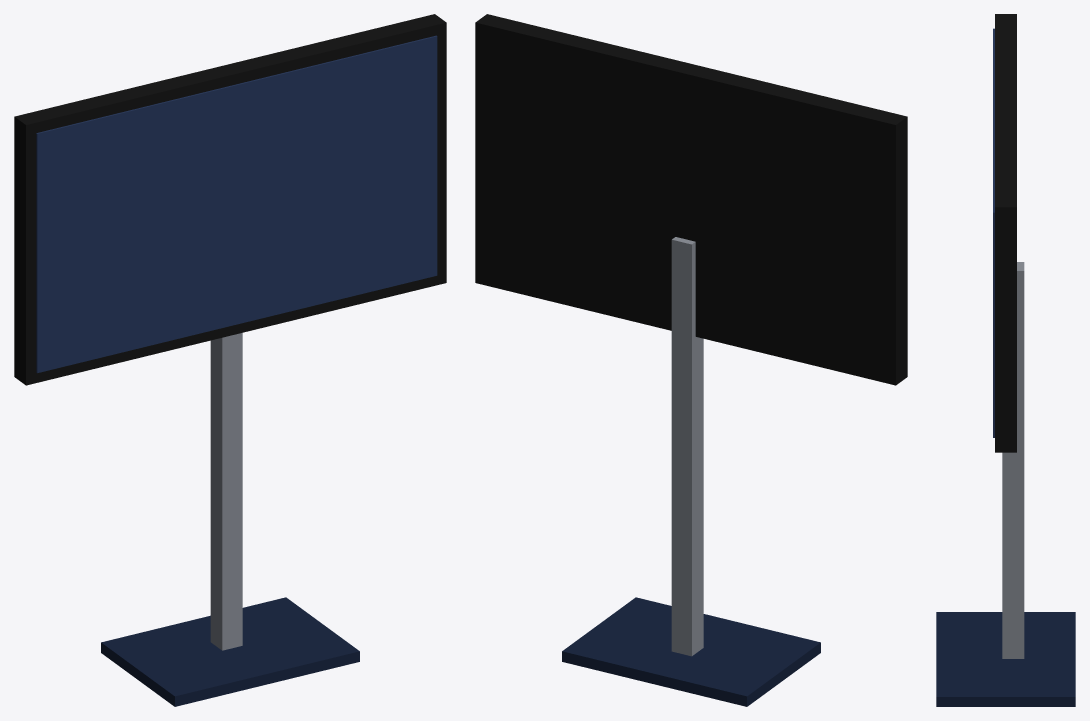
3 renders of one model, left to right at view 1: azimuth 30°, elevation 25°; view 2: azimuth 150°, elevation 25°; view 3: azimuth 270°, elevation 25°, orthographic. The views are drawn at different scales.
Bounding box in the file's own units: 1.25 × 1.67 × 0.38.
